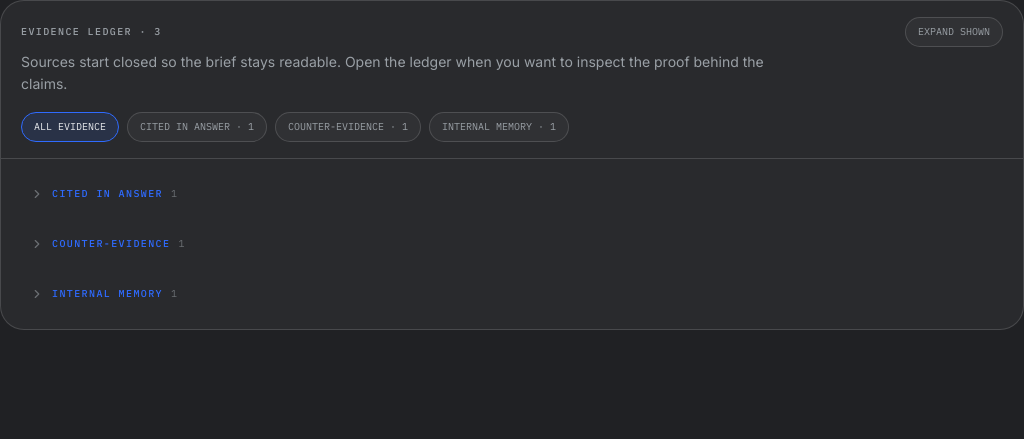
meeting prep results UI › groups sources into a collapsed evidence ledger with role filters
Expected: the text "Evidence ledger · 3" is shown, left=21, top=25, right=162, bottom=38
Expected: the button "Counter-evidence · 1" is shown, left=275, top=112, right=421, bottom=142
Click the button "Cited in answer · 1": (197, 127) left=127, top=112, right=267, bottom=142
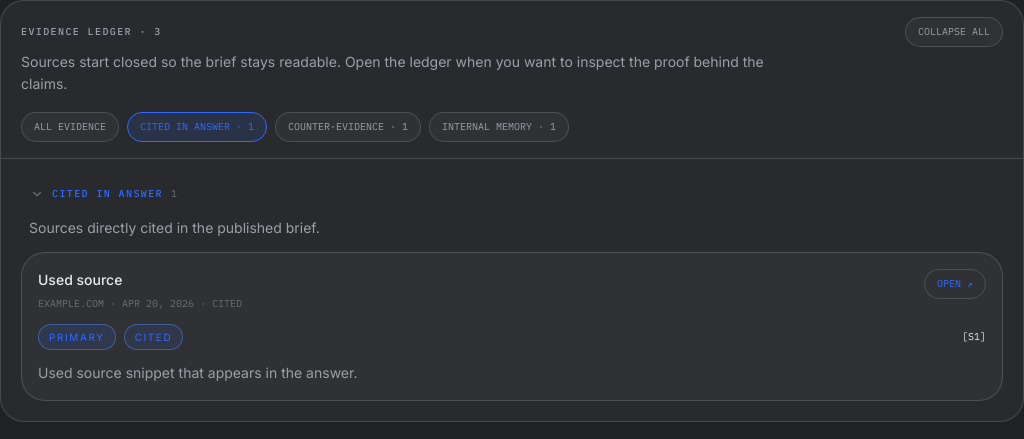
Expected: the text "Used source" is shown, left=38, top=271, right=122, bottom=288
Expected: the text "cited" is shown, left=124, top=324, right=183, bottom=350
Click the button "Internal memory · 1": (499, 127) left=429, top=112, right=569, bottom=142
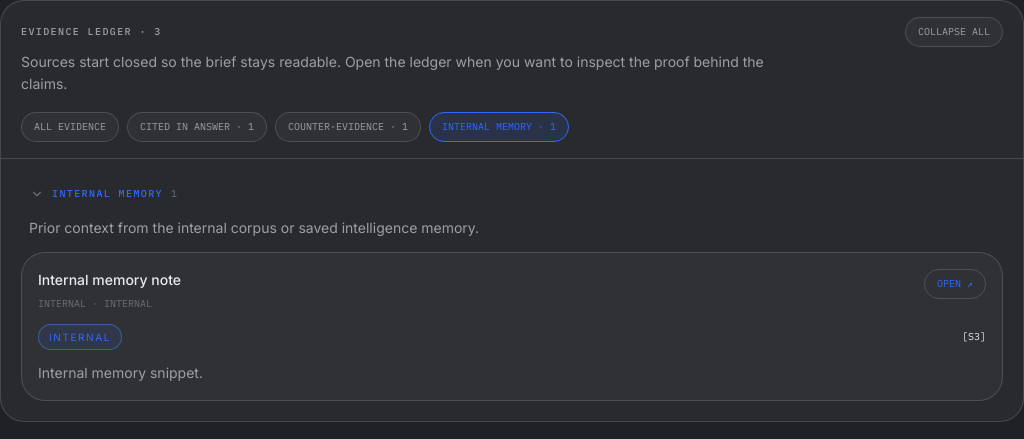
Expected: the text "Internal memory note" is shown, left=38, top=269, right=181, bottom=292
Expected: the text "internal" below "Internal memory note" is shown, left=38, top=297, right=86, bottom=310
